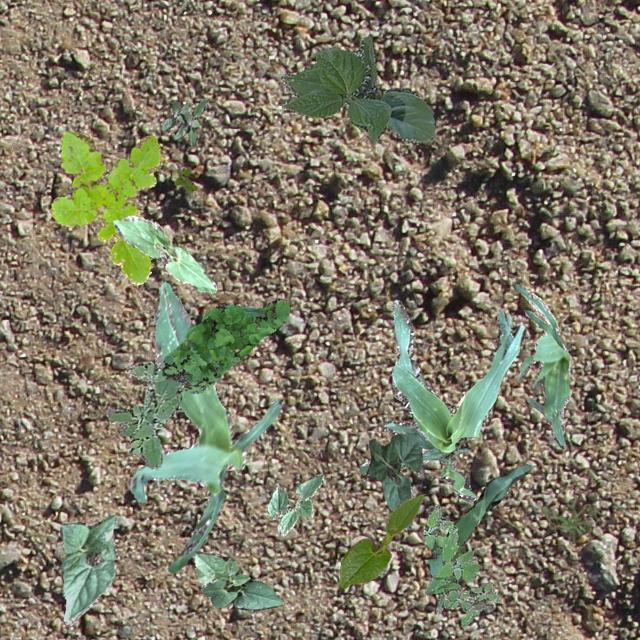crop: (127, 279, 280, 572), (358, 298, 524, 501), (280, 34, 434, 142), (426, 464, 530, 614), (514, 284, 568, 448), (112, 215, 216, 292), (338, 493, 422, 588), (58, 514, 116, 624), (366, 432, 422, 528), (195, 550, 282, 608), (266, 472, 322, 534)
weed: (49, 130, 160, 284), (162, 298, 288, 392), (422, 504, 500, 626), (104, 362, 184, 468), (540, 496, 600, 542), (160, 98, 207, 144), (173, 166, 196, 192)
